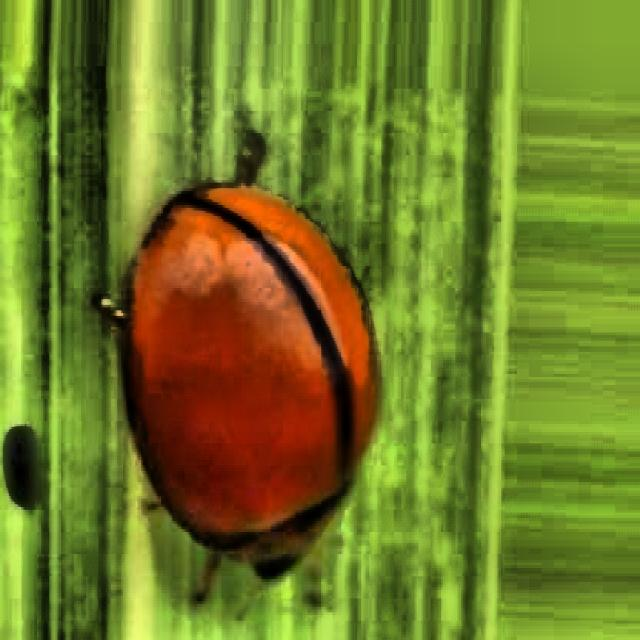Ladybug: (92, 122, 390, 615)
